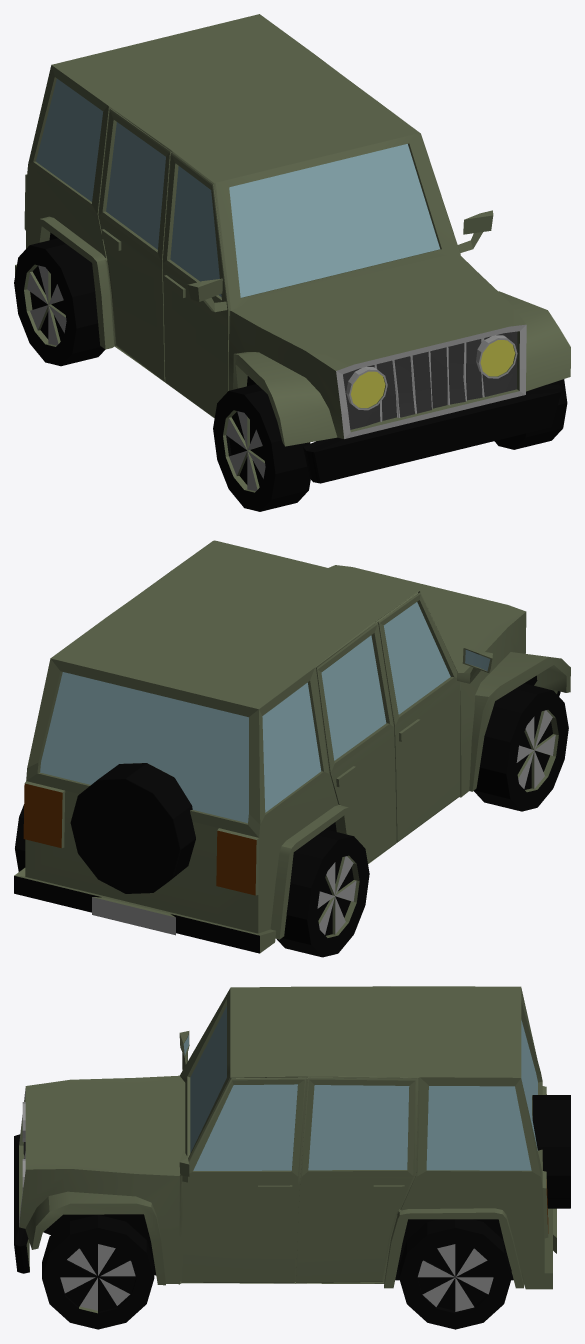
File: jeep.fbx
The picture shows the model from 3 angles, top to bottom: view 1: azimuth 30°, elevation 25°; view 2: azimuth 150°, elevation 25°; view 3: azimuth 270°, elevation 25°; orthographic projection. The views are drawn at different scales.
Parts seen in each view (by area): view 1: light2; view 2: light2; view 3: light2.
Part boxes in pixels (x1=…): light2: x1=14, y1=14, x2=570, y2=511; light2: x1=14, y1=540, x2=570, y2=957; light2: x1=14, y1=986, x2=570, y2=1329.
Bounding box in the file's own units: 4.37 × 3.58 × 7.69.
